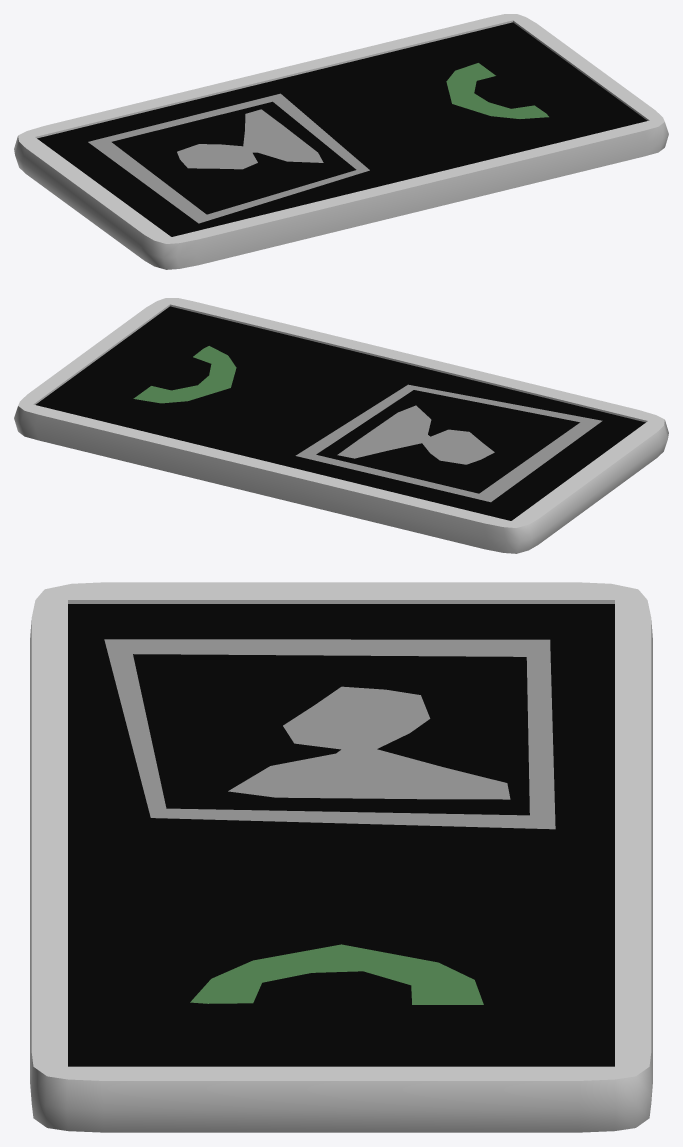
The model's file is phone.fbx.
3 views of the same model, one above another, from view 1: azimuth 30°, elevation 25°; view 2: azimuth 150°, elevation 25°; view 3: azimuth 270°, elevation 25° (orthographic). The views are drawn at different scales.
Visible parts, largest first — view 1: Cube.017; view 2: Cube.017; view 3: Cube.017.
Part boxes in pixels (left/top/right/bottom): Cube.017: left=14, top=14, right=668, bottom=269; Cube.017: left=14, top=298, right=668, bottom=553; Cube.017: left=30, top=582, right=652, bottom=1132.
Bounding box in the file's own units: 16.05 × 0.7635 × 8.35.
